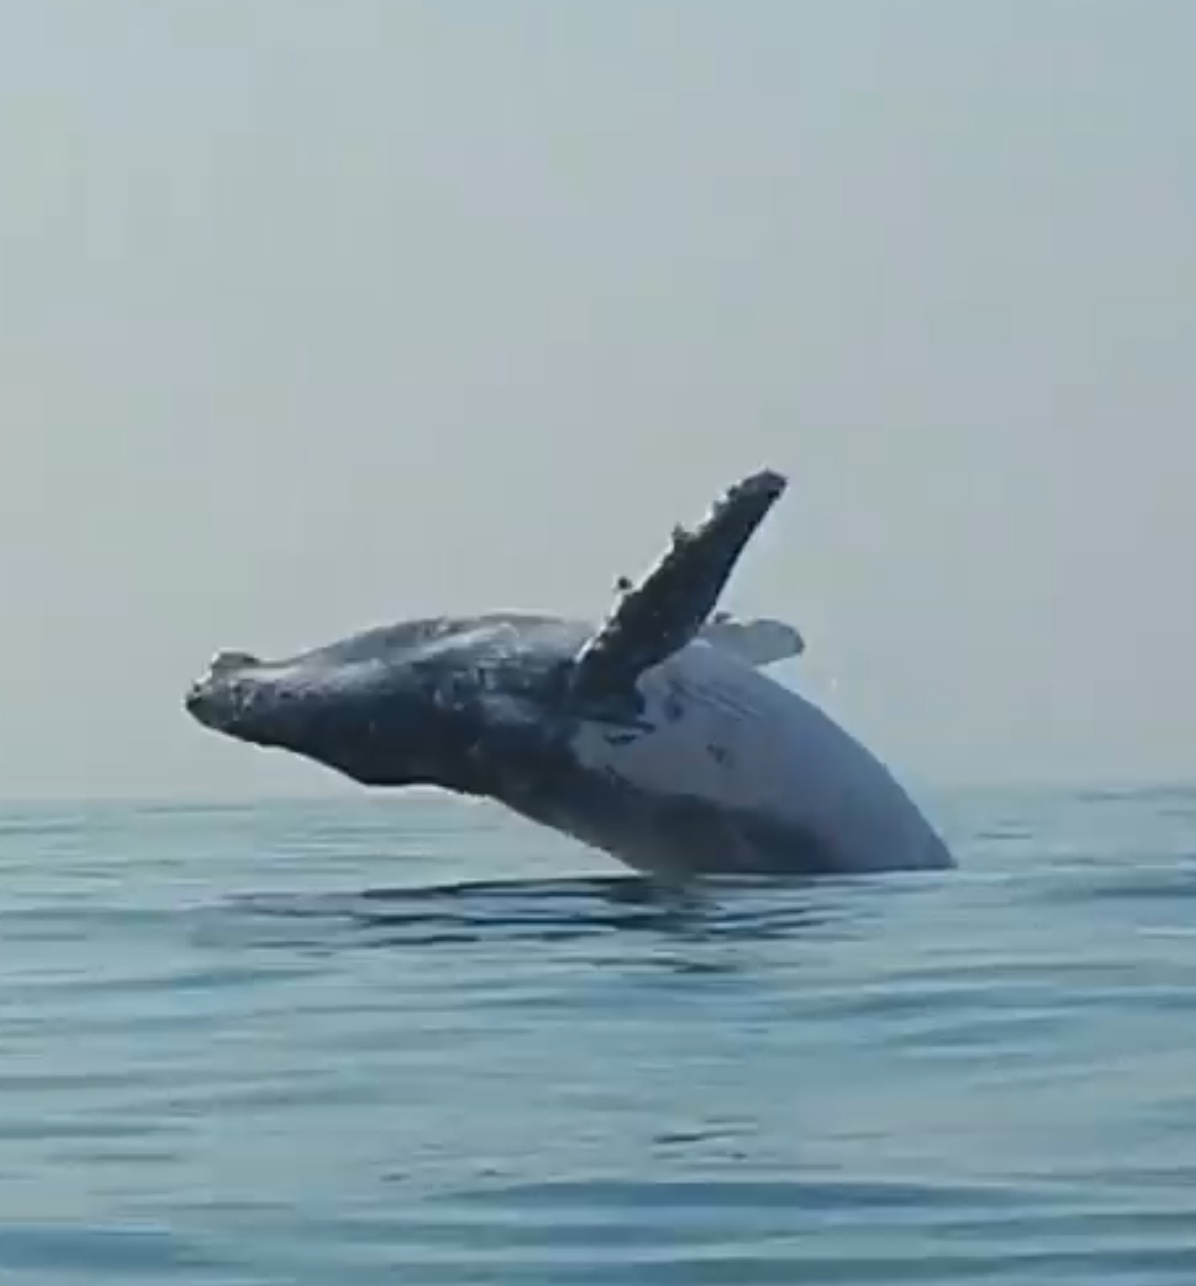humpback: (193, 617, 958, 876)
